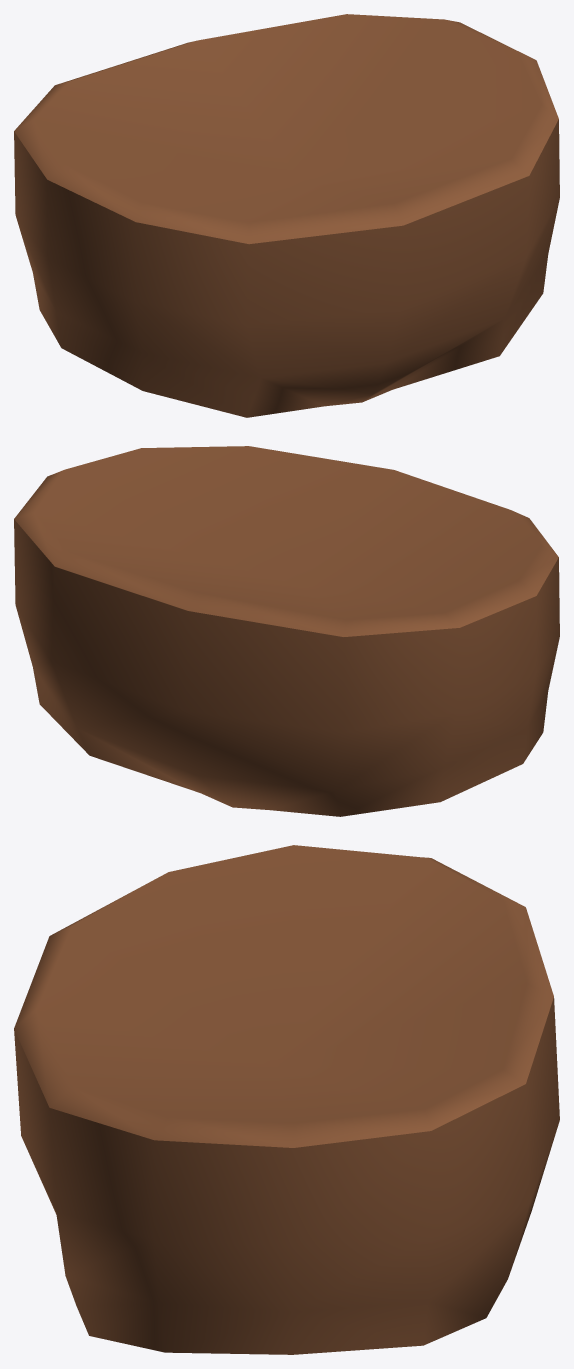
File: Bottom_64.fbx
3 views of the same model, one above another, from view 1: azimuth 30°, elevation 25°; view 2: azimuth 150°, elevation 25°; view 3: azimuth 270°, elevation 25° (orthographic). The views are drawn at different scales.
Visible parts, largest first — view 1: Bottom_64; view 2: Bottom_64; view 3: Bottom_64.
Part boxes in pixels (x1,y1,x2,y2): Bottom_64: (14,14,559,417); Bottom_64: (14,446,559,816); Bottom_64: (14,845,559,1354).
Bounding box in the file's own units: 38.53 × 18.35 × 29.68.
